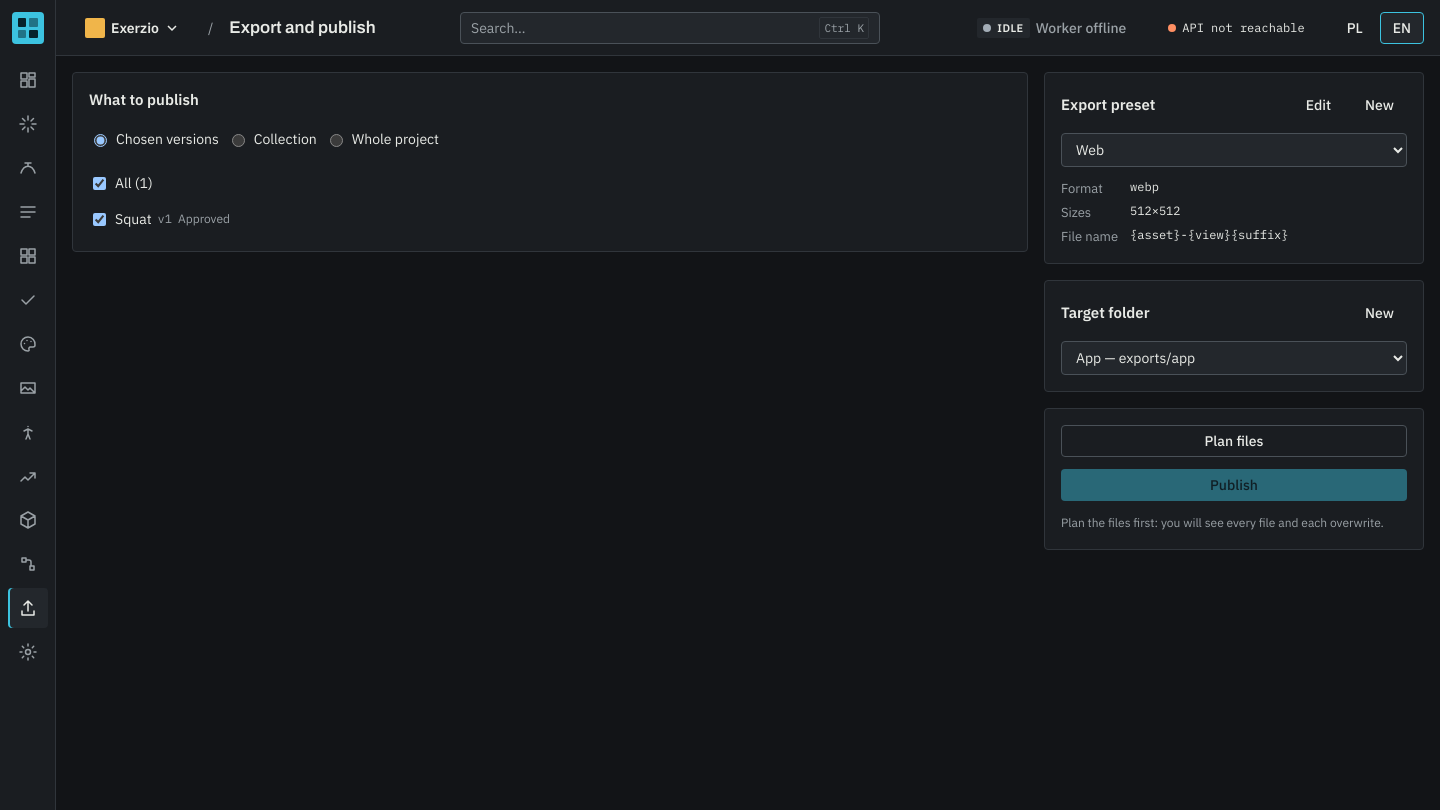
it: Export and publish › plans files and publishes only after each overwrite is confirmed (RULE-004)
Expected: the checkbox labelled "Squat v1 Approved" is checked, top-left (93, 212), bottom-right (106, 226)
Expected: the button "Publish" is disabled, top-left (1061, 469), bottom-right (1407, 501)
Click the button "Plan files".
click(1234, 441)  # box top-left (1061, 425), bottom-right (1407, 457)
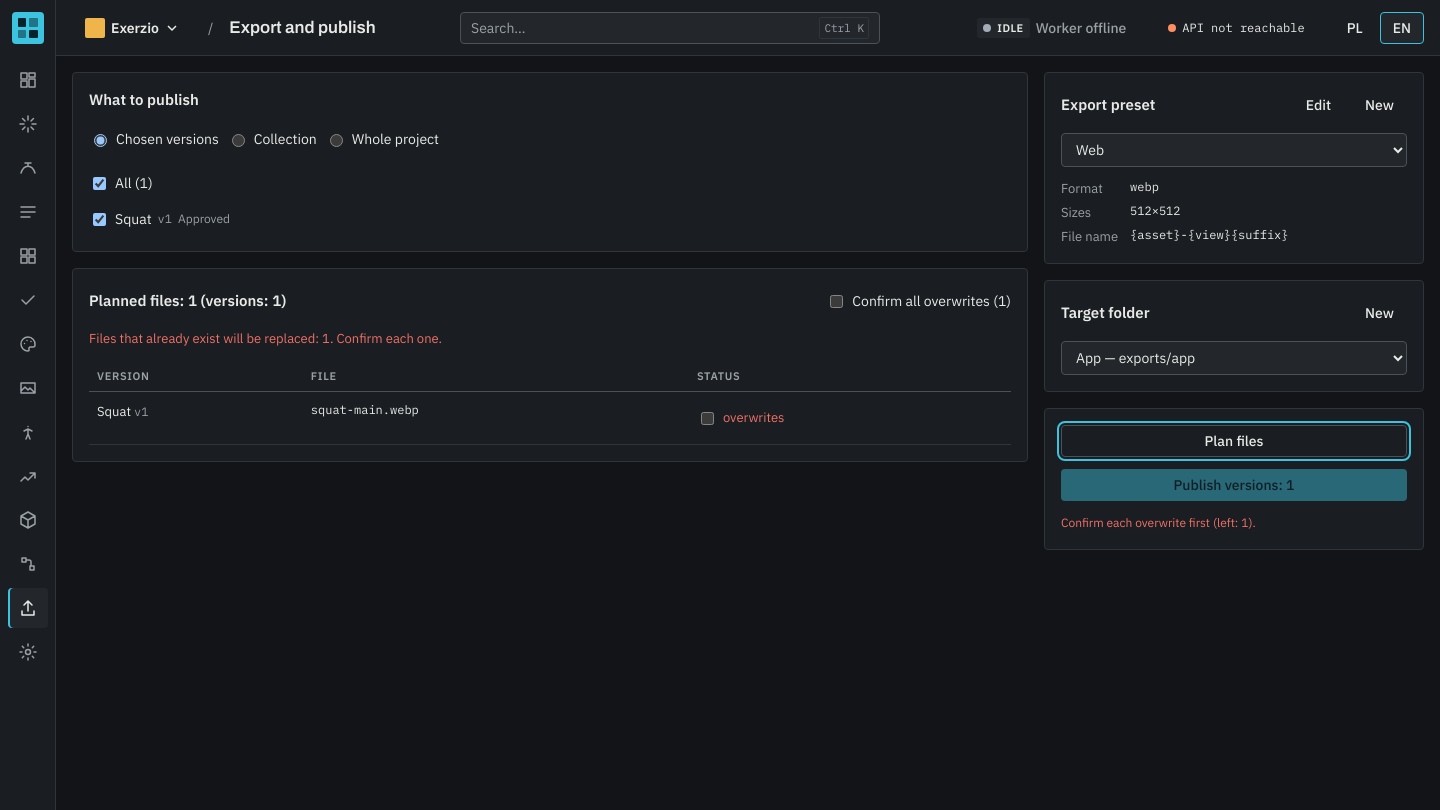
Expected: the button "Publish versions: 1" is disabled, top-left (1061, 469), bottom-right (1407, 501)
Result: the text "squat-main.webp" is shown at top-left (303, 392), bottom-right (689, 444)
Result: the message "Files that already exist will be replaced: 1. Confirm each one." is shown at top-left (89, 330), bottom-right (442, 347)
Click the checkbox named "Confirm overwriting squat-main.webp".
click(707, 418)  # box top-left (701, 412), bottom-right (714, 424)
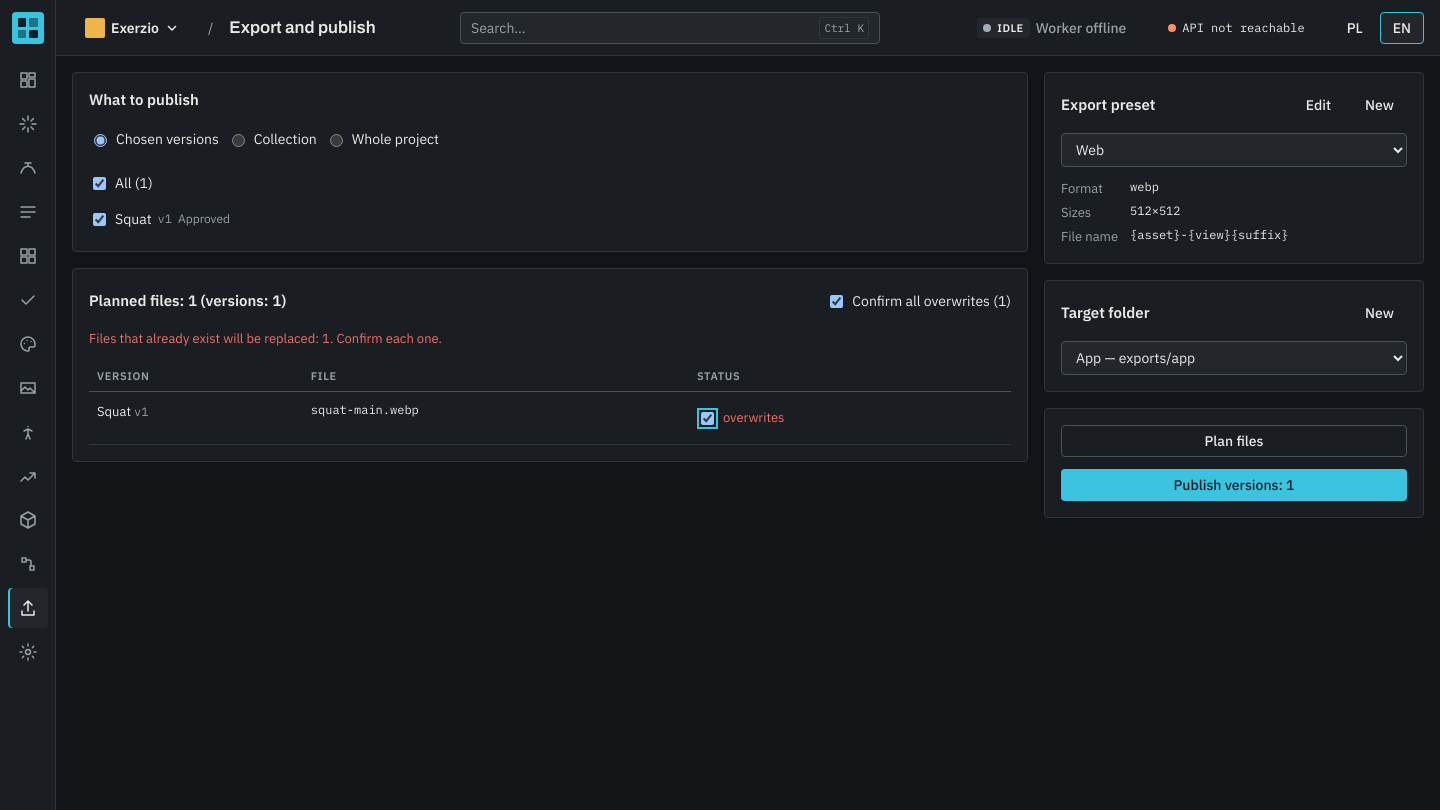
Result: the button "Publish versions: 1" is enabled
Click the button "Publish versions: 1".
click(1234, 485)  # box top-left (1061, 469), bottom-right (1407, 501)
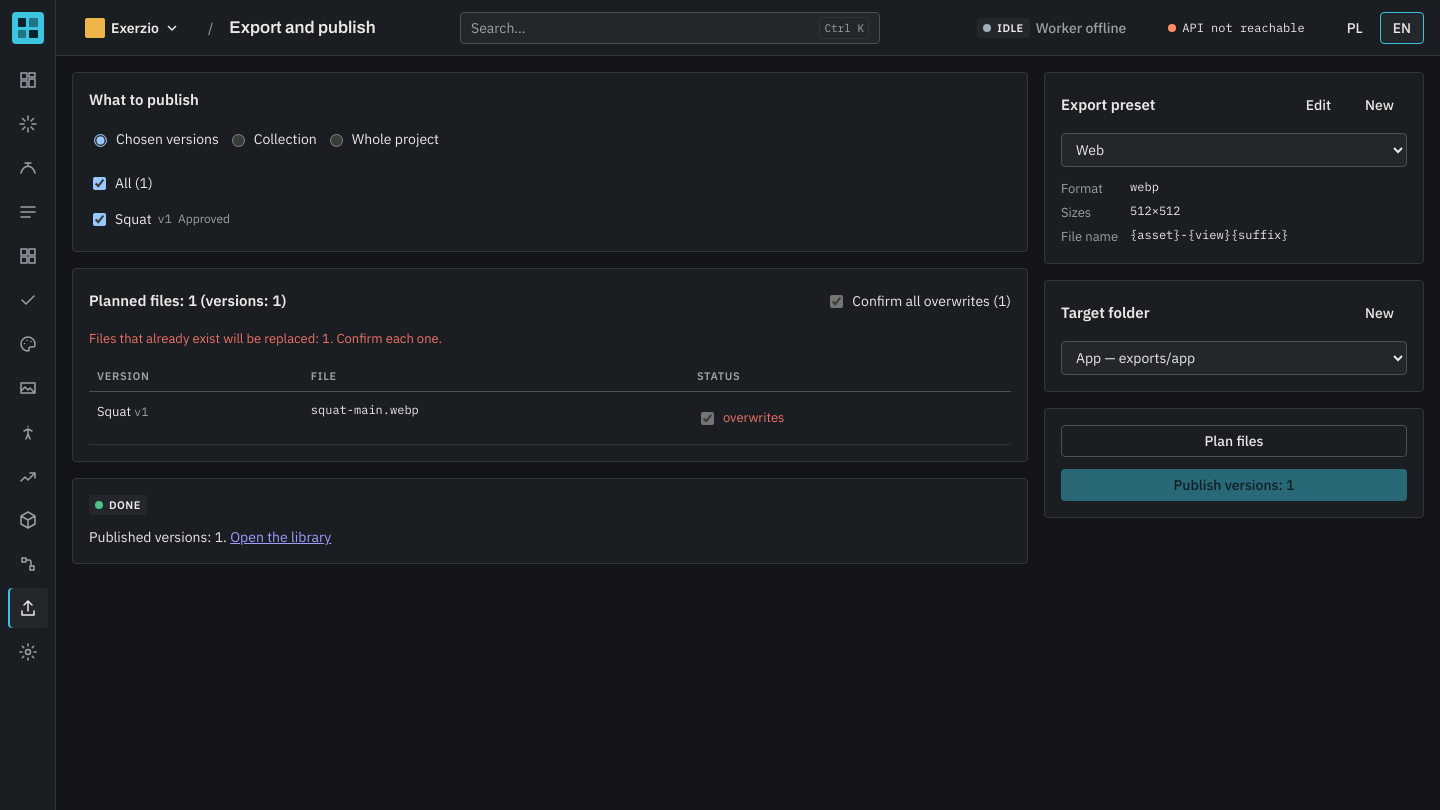
Result: the text "Published versions: 1. Open the library" is shown at top-left (89, 528), bottom-right (331, 546)
